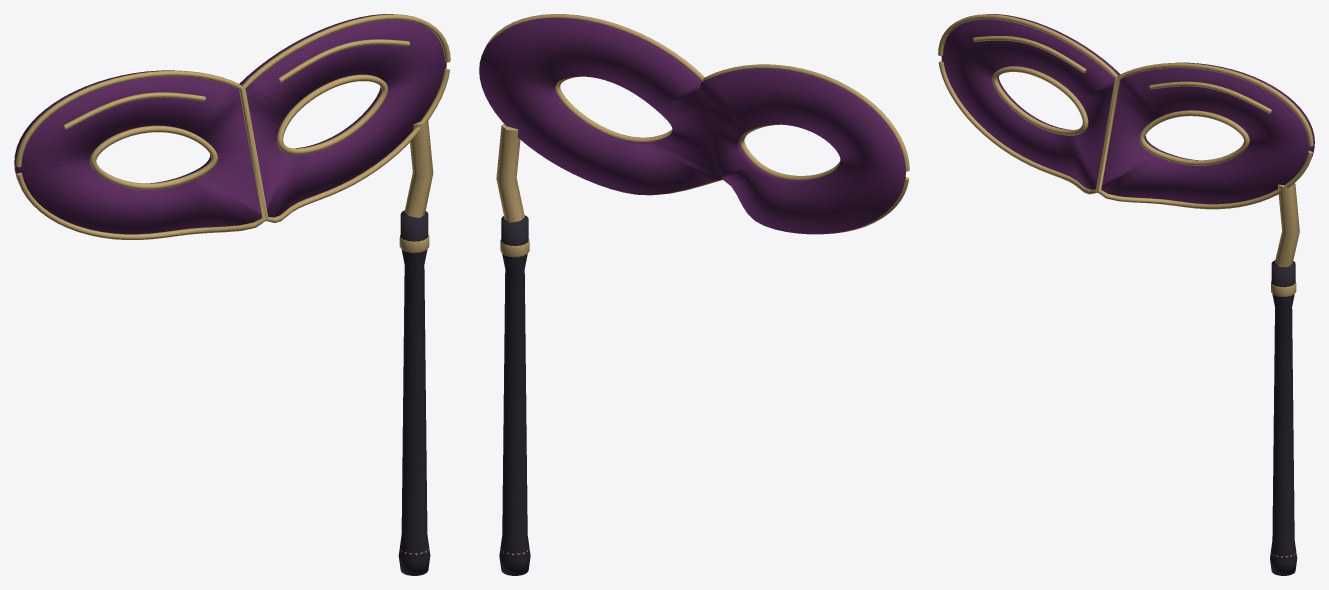
The model's file is P010_masquerade_mask_rebuilt.glb.
3 renders of one model, left to right at view 1: azimuth 30°, elevation 25°; view 2: azimuth 150°, elevation 25°; view 3: azimuth 330°, elevation 25°, orthographic. The views are drawn at different scales.
Parts seen in each view (by area): view 1: Mask_lacquered_plum_papier-mache, Mask_raised_gold_borders, Mask_ebonized_wooden_handle; view 2: Mask_lacquered_plum_papier-mache, Mask_ebonized_wooden_handle, Mask_raised_gold_borders; view 3: Mask_lacquered_plum_papier-mache, Mask_raised_gold_borders, Mask_ebonized_wooden_handle.
Part boxes in pixels (bbox=[...]): Mask_lacquered_plum_papier-mache: bbox=[14, 14, 446, 234]; Mask_raised_gold_borders: bbox=[15, 14, 450, 555]; Mask_ebonized_wooden_handle: bbox=[398, 210, 430, 575]; Mask_lacquered_plum_papier-mache: bbox=[479, 18, 905, 234]; Mask_ebonized_wooden_handle: bbox=[499, 215, 530, 575]; Mask_raised_gold_borders: bbox=[483, 14, 909, 555]; Mask_lacquered_plum_papier-mache: bbox=[941, 14, 1314, 204]; Mask_raised_gold_borders: bbox=[938, 14, 1313, 557]; Mask_ebonized_wooden_handle: bbox=[1270, 260, 1297, 575].
Size of the model in its own units: 0.2528 by 0.318 by 0.0422.
